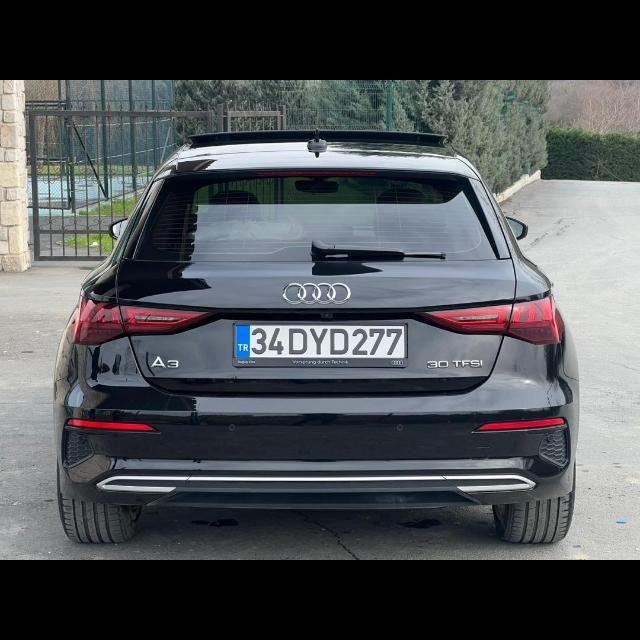Plaka: (234, 326, 404, 358)
